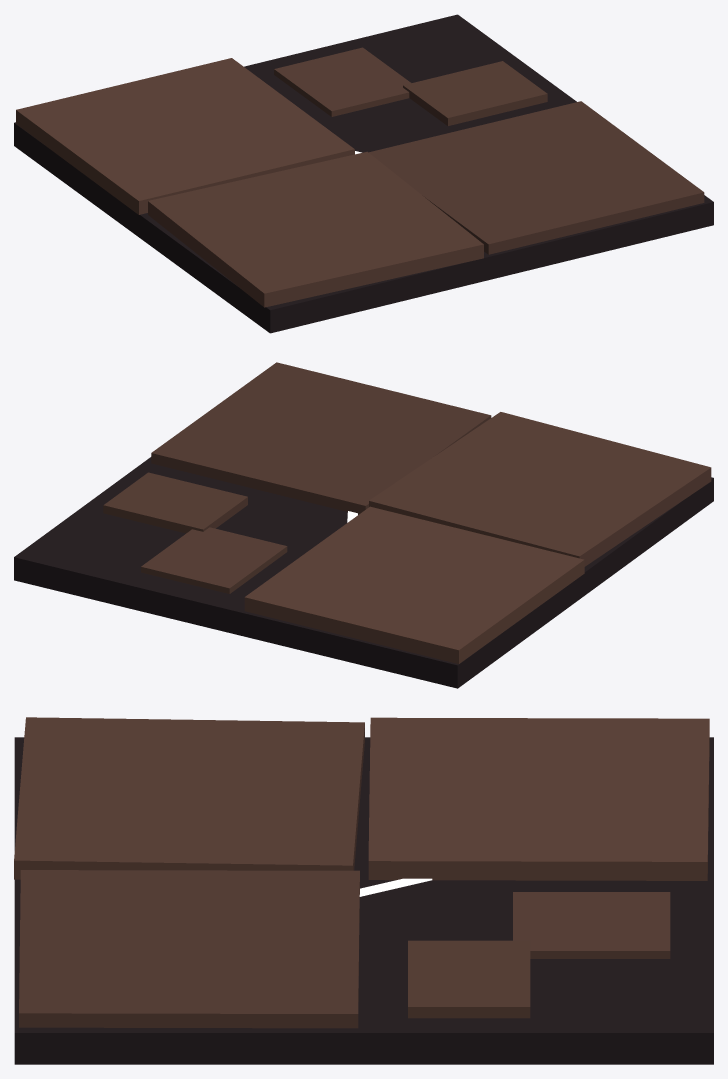
The model's file is floor_cracked_4m.glb.
The picture shows the model from 3 angles, top to bottom: view 1: azimuth 30°, elevation 25°; view 2: azimuth 150°, elevation 25°; view 3: azimuth 270°, elevation 25°; orthographic projection. The views are drawn at different scales.
Parts seen in each view (by area): view 1: floor_cracked_4m; view 2: floor_cracked_4m; view 3: floor_cracked_4m.
Part boxes in pixels (x1,y1,x2,y2): floor_cracked_4m: (14, 14, 713, 333); floor_cracked_4m: (14, 362, 713, 688); floor_cracked_4m: (14, 717, 713, 1064).
Bounding box in the file's own units: 4.01 × 0.32 × 4.
